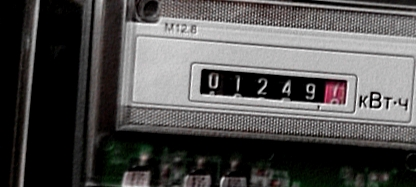0: (206, 70, 222, 92)
1: (231, 73, 244, 94)
2: (255, 76, 270, 98)
4: (280, 78, 293, 99)
7: (328, 79, 343, 100)
9: (303, 81, 318, 104)
screen: (179, 54, 358, 120)
